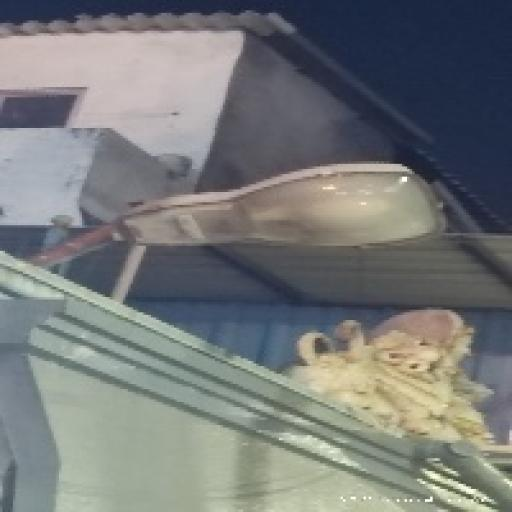Not Working: (103, 142, 451, 288)
